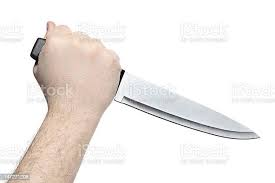weapon-unusual: (25, 20, 266, 153)
